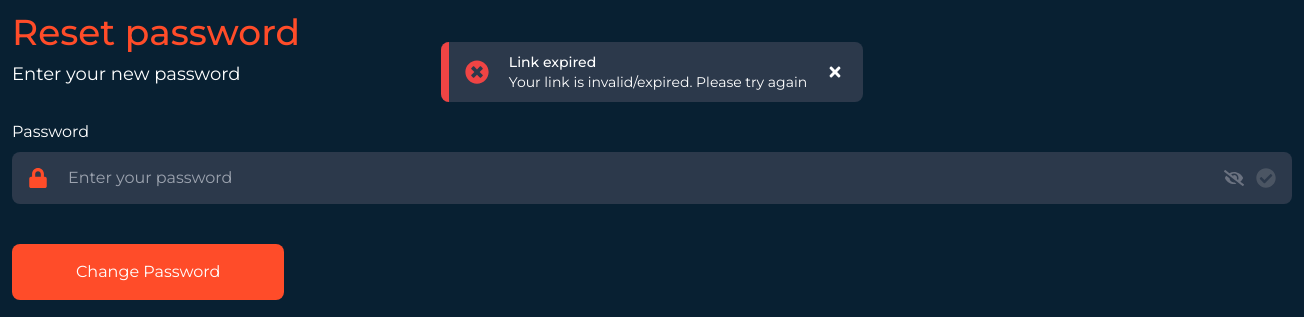
Test: should redirect and render an alert after entering a valid password
Expected: the text "Change Password" is shown, [76,260,220,284]
Type "Testuser1" into the password field with placeholder "Enter your password" at {"x": 652, "y": 178}, box [12,152,1292,204]
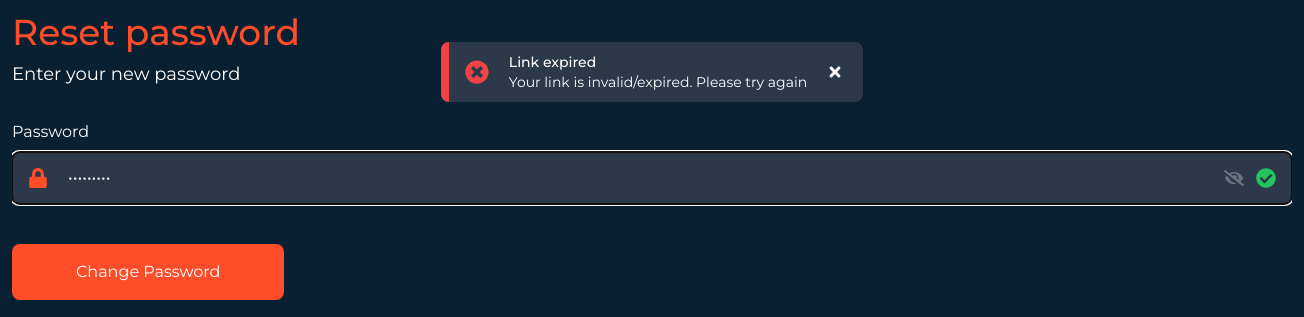
Click the button "Change Password" at {"x": 148, "y": 272}, box [12,244,284,300]
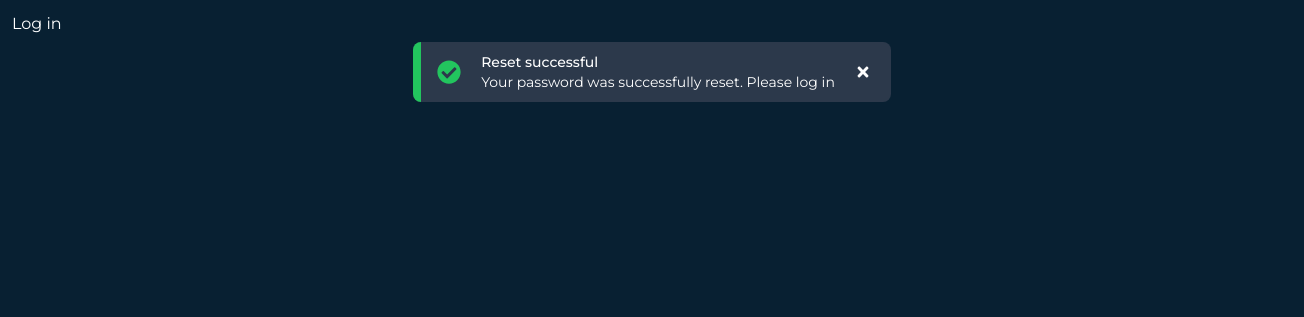
Result: the text "Your password was successfully reset. Please log in" is shown at [481,72,835,92]
Result: the text "Log in" is shown at [12,14,62,33]
